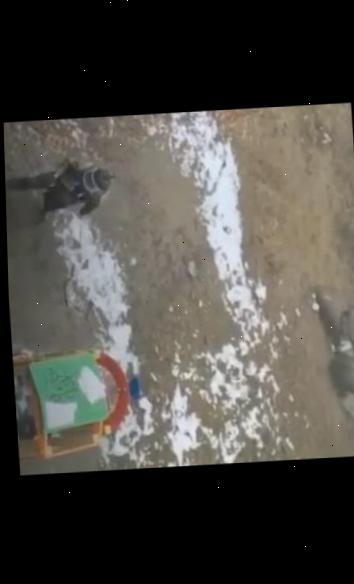person: (5, 156, 118, 226)
